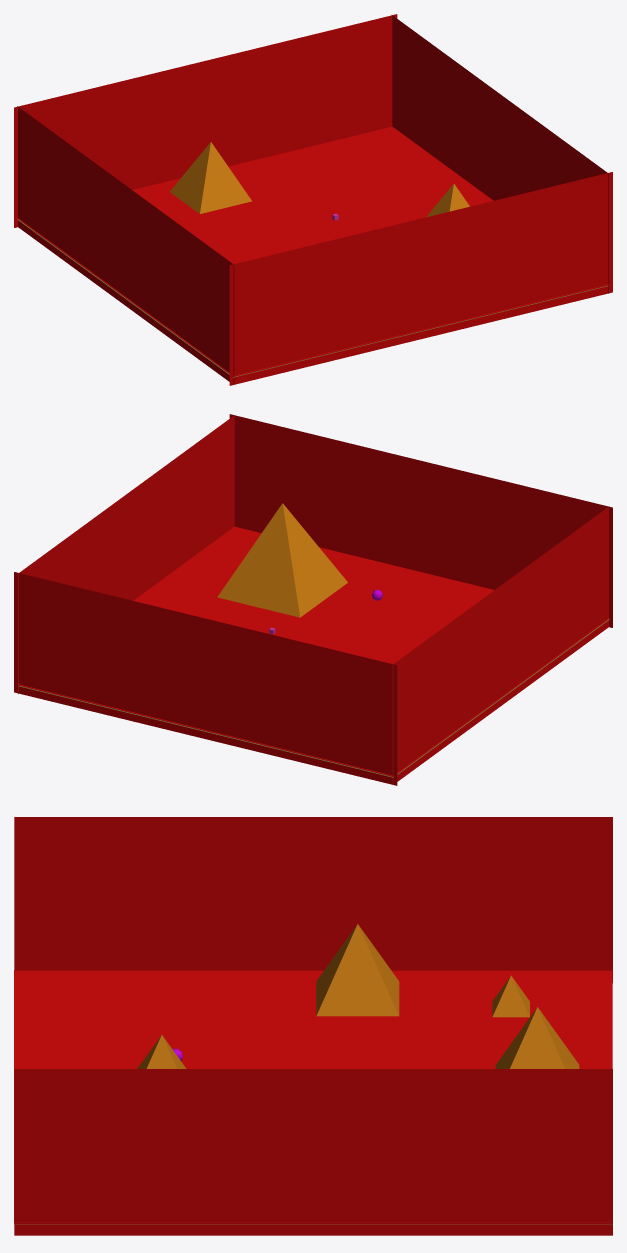
File: egypt.obj
3 views of the same model, one above another, from view 1: azimuth 30°, elevation 25°; view 2: azimuth 150°, elevation 25°; view 3: azimuth 270°, elevation 25° (orthographic). The views are drawn at different scales.
Parts seen in each view (by area): view 1: wall4, wall2, wall1, collGroundPlane, wall3, pyramid2, visGroundPlane, bigPyramid; view 2: wall2, wall4, wall1, collGroundPlane, wall3, bigPyramid, visGroundPlane; view 3: wall3, wall1, collGroundPlane, pyramid1, pyramid2, smallPyramid, bigPyramid, visGroundPlane.
Part boxes in pixels (x1,y1,x2,y2): wall4: (229, 172, 612, 385); wall2: (14, 14, 397, 227); wall1: (17, 106, 234, 384); collGroundPlane: (17, 126, 608, 376); wall3: (392, 15, 608, 293); pyramid2: (170, 142, 251, 213); visGroundPlane: (17, 219, 607, 377); bigPyramid: (426, 183, 469, 217); wall2: (14, 572, 397, 785); wall4: (229, 414, 612, 627); wall1: (392, 507, 608, 784); collGroundPlane: (18, 526, 609, 776); wall3: (18, 415, 234, 693); bigPyramid: (217, 503, 347, 617); visGroundPlane: (18, 619, 609, 777); wall3: (14, 1069, 612, 1235); wall1: (14, 817, 612, 982); collGroundPlane: (14, 970, 612, 1222); pyramid1: (316, 924, 399, 1016); pyramid2: (495, 1007, 579, 1068); smallPyramid: (492, 975, 529, 1017); bigPyramid: (137, 1035, 186, 1068); visGroundPlane: (14, 1223, 612, 1224).
Size of the model in its own units: 316 by 95.13 by 310.
